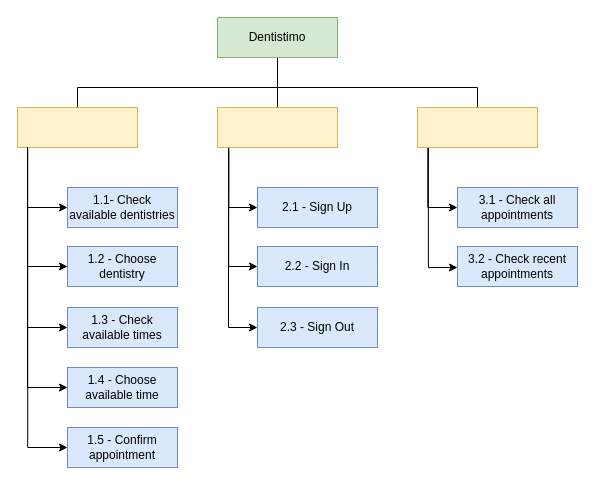
This 595x485 diagram has some shape labels left out. The centre of each missing label's shape, as x and y in pixels:
"1- Book Appointment" belongs at pixel 77 127.
"2- Authenticate user" belongs at pixel 277 127.
"3- Check Appointments" belongs at pixel 477 127.
